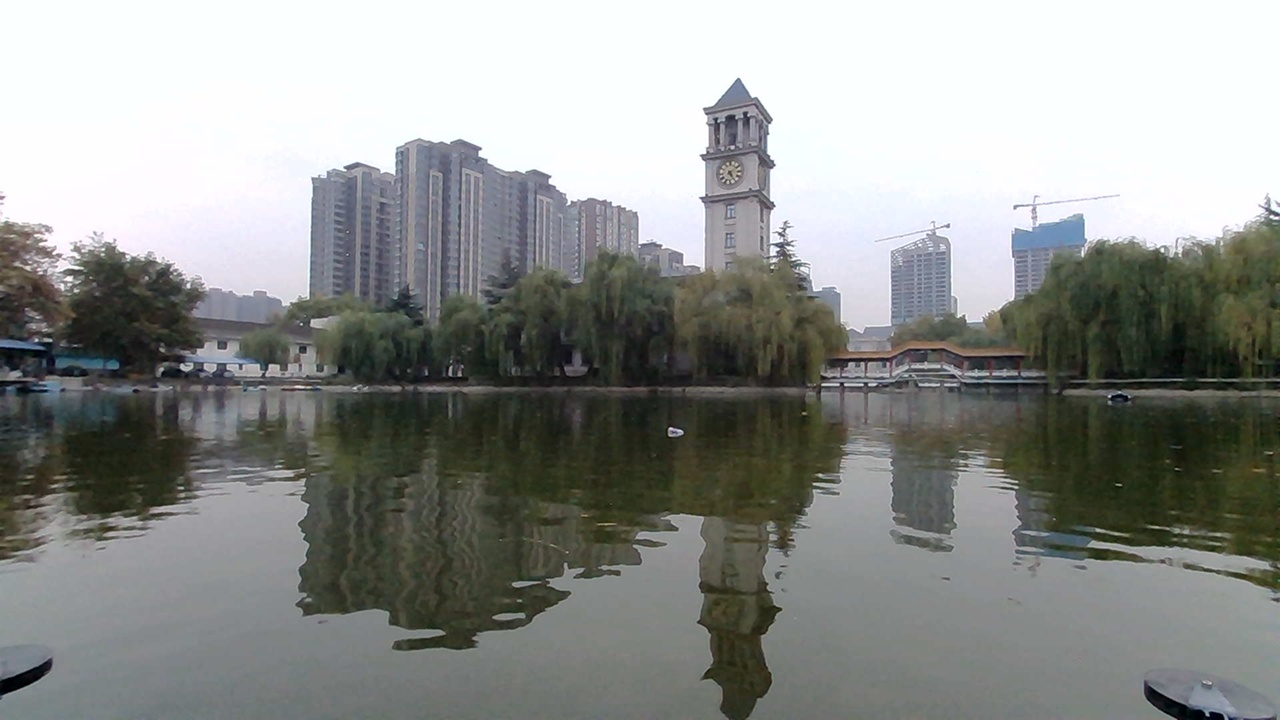bottle: (655, 412, 707, 450)
